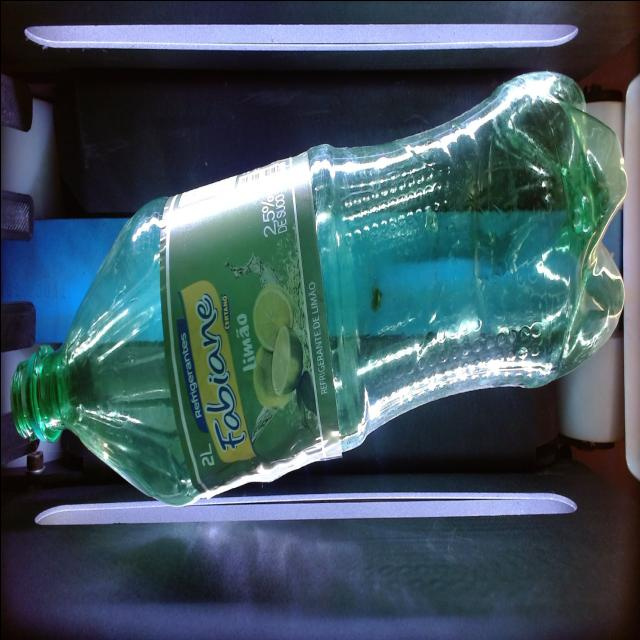bottom: (496, 62, 628, 366)
no_cap: (1, 338, 66, 451)
